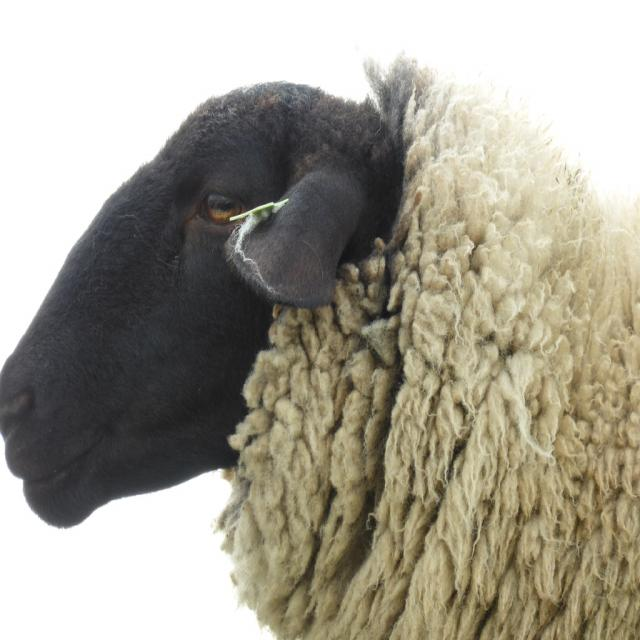Sheep: (0, 48, 640, 640)
